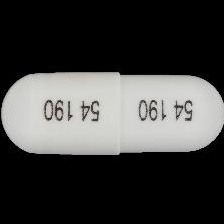69189-0399: (0, 0, 224, 224)
